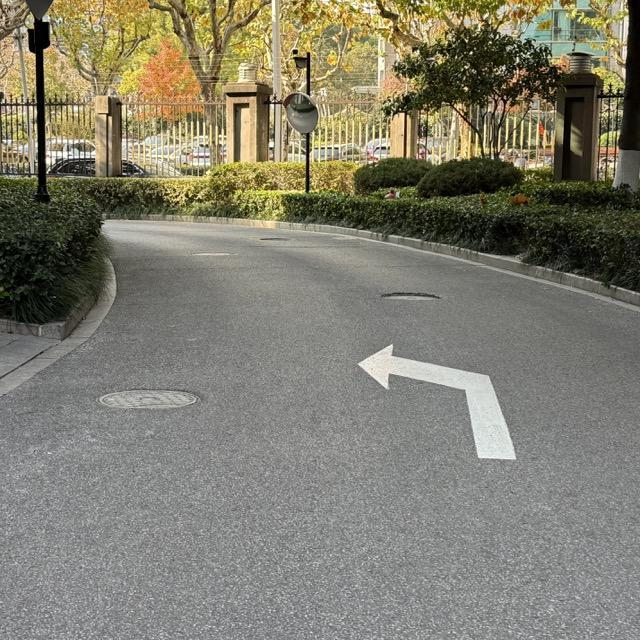curb: (109, 213, 639, 308), (0, 296, 99, 337)
